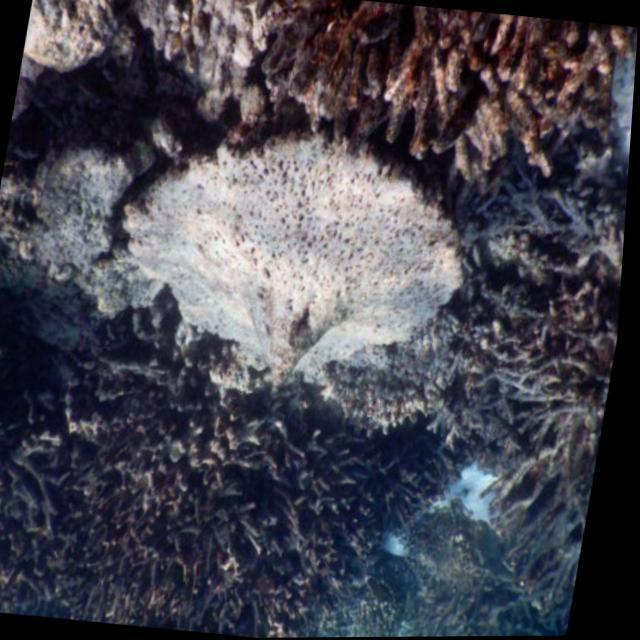Dead Coral: (0, 372, 444, 640), (435, 192, 630, 586)
